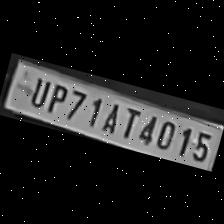0: (151, 114, 180, 151)
1: (80, 90, 106, 128), (172, 120, 196, 156)
4: (134, 108, 160, 145)
5: (186, 125, 215, 163)
7: (61, 84, 88, 122)
A: (97, 96, 124, 134)
P: (42, 78, 70, 116)
T: (117, 102, 142, 140)
U: (25, 72, 51, 108)
